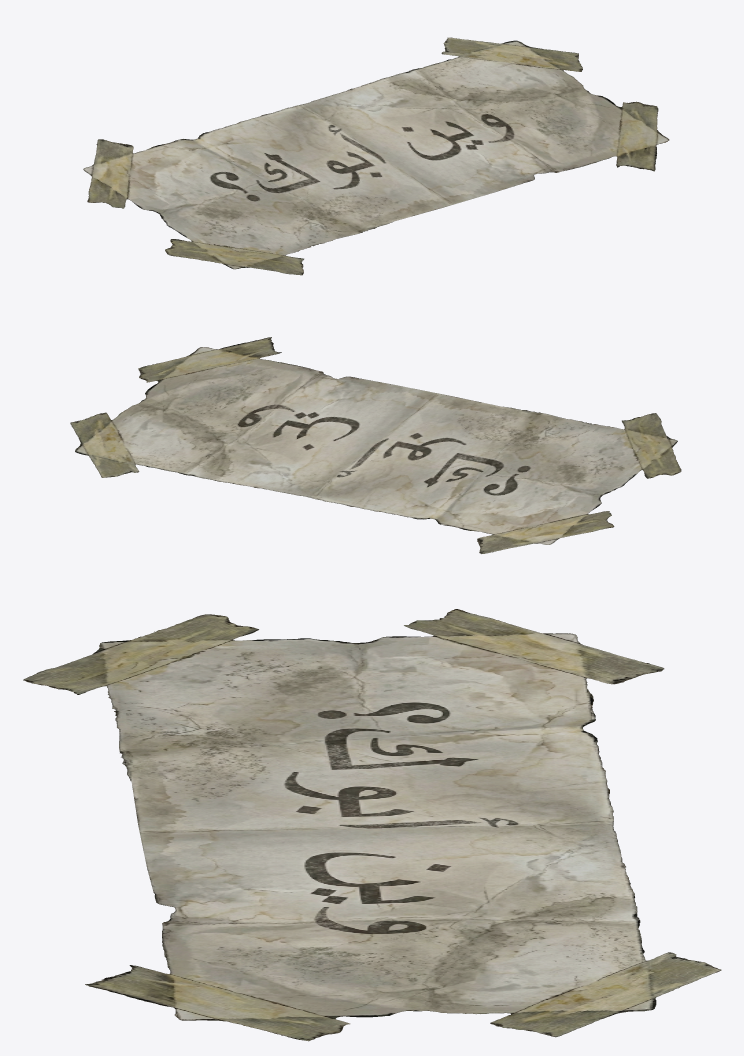
Rendered from Paper.fbx.
The picture shows the model from 3 angles, top to bottom: view 1: azimuth 30°, elevation 25°; view 2: azimuth 150°, elevation 25°; view 3: azimuth 270°, elevation 25°; orthographic projection. The views are drawn at different scales.
Visible parts, largest first — view 1: pPlane1; view 2: pPlane1; view 3: pPlane1.
Boxes of the visible parts, bbox=[...] form: pPlane1: bbox=[83, 37, 669, 275]; pPlane1: bbox=[70, 337, 681, 553]; pPlane1: bbox=[23, 609, 721, 1041].
Bounding box in the file's own units: 1 × 0 × 0.6982.
1 material, 1 textured.
